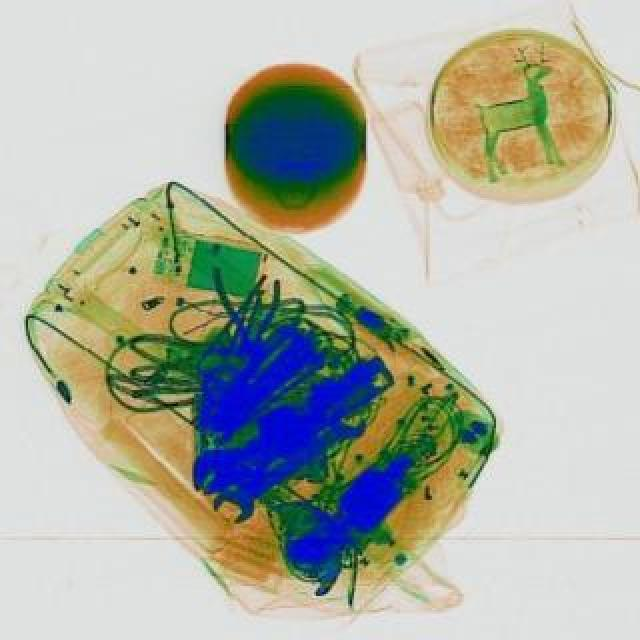scissors: (212, 402, 378, 534)
wrench: (212, 268, 282, 364)
